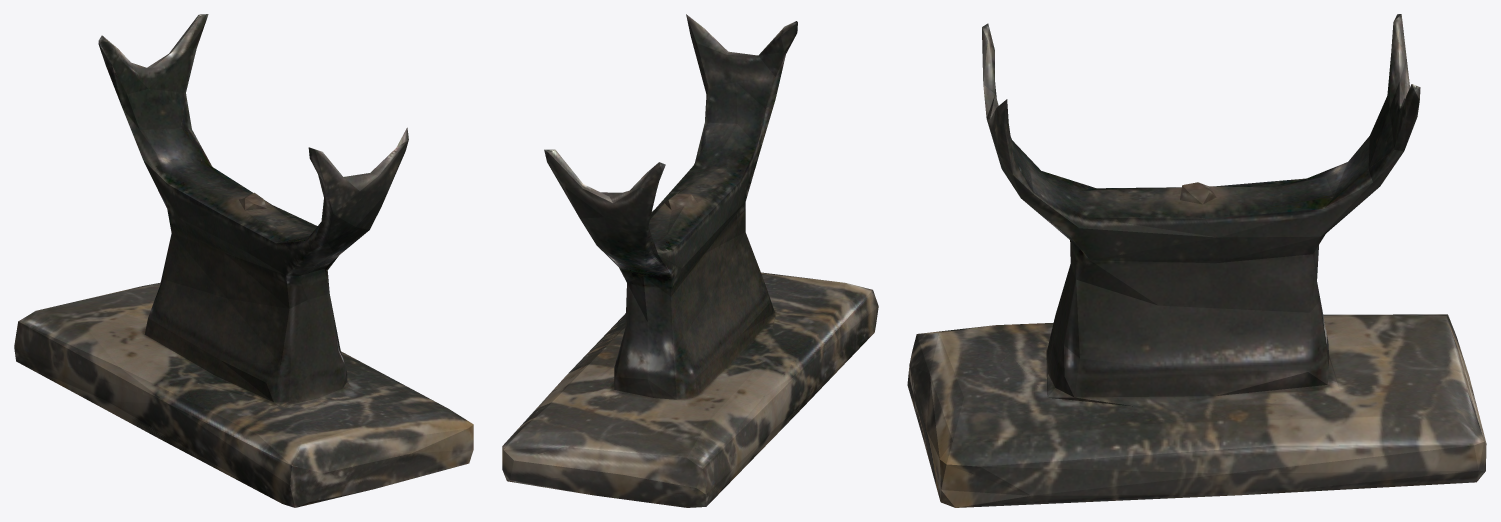
File: 22AFA8BD-2F82-4B40-9D7F-15DBDE55BE38_512.glb
3 views of the same model, side by side, from view 1: azimuth 30°, elevation 25°; view 2: azimuth 150°, elevation 25°; view 3: azimuth 270°, elevation 25° (orthographic). The views are drawn at different scales.
Parts seen in each view (by area): view 1: Loetkolben_0.4k_0.5k; view 2: Loetkolben_0.4k_0.5k; view 3: Loetkolben_0.4k_0.5k.
Boxes of the visible parts, x1,y1,x2,y2 form: Loetkolben_0.4k_0.5k: (14, 14, 473, 507); Loetkolben_0.4k_0.5k: (502, 14, 878, 507); Loetkolben_0.4k_0.5k: (907, 14, 1486, 507).
Size of the model in its own units: 0.0849 by 0.1122 by 0.1452.
Materials: 1 (1 with a texture image).
